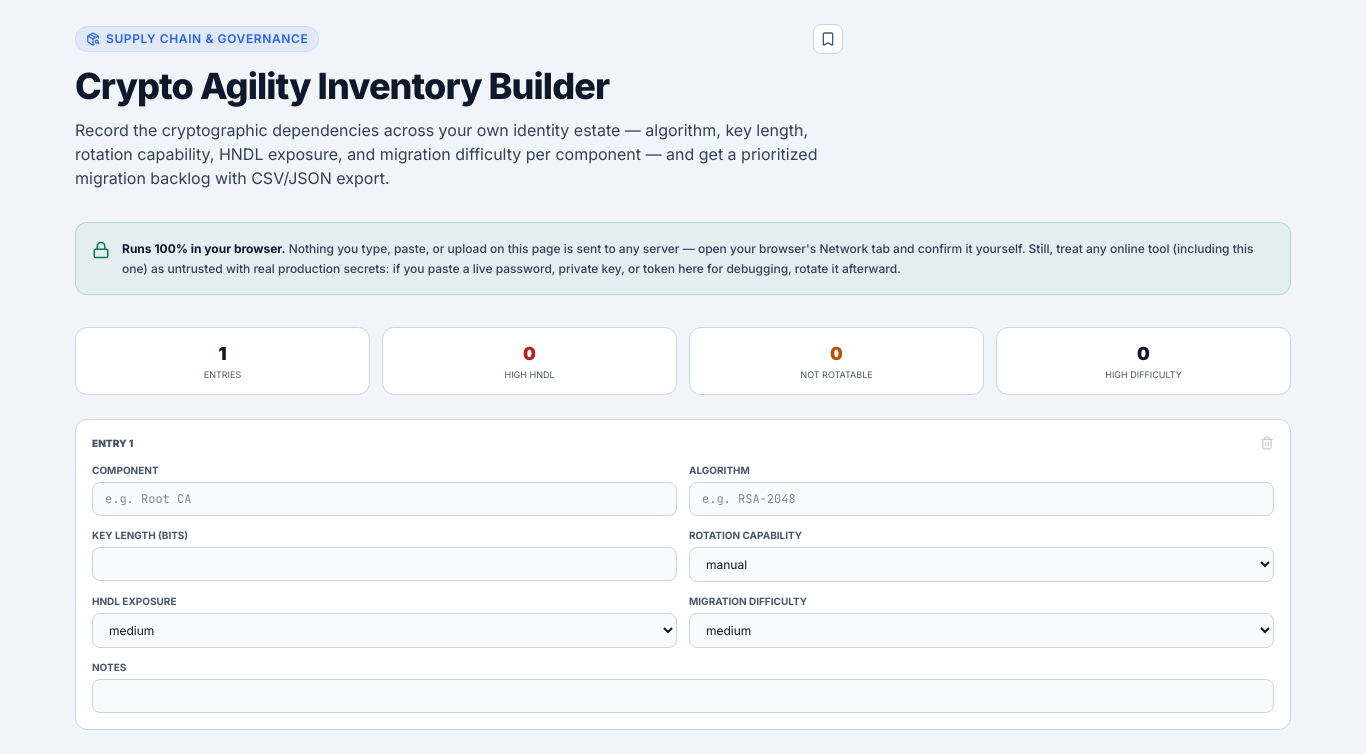
Test: CryptoAgilityInventoryBuilder tool page › updates the summary counts when HNDL exposure is set to high
Select "high" in the dropdown labelled "HNDL Exposure" at (384, 630), box top-left (92, 612), bottom-right (677, 648)
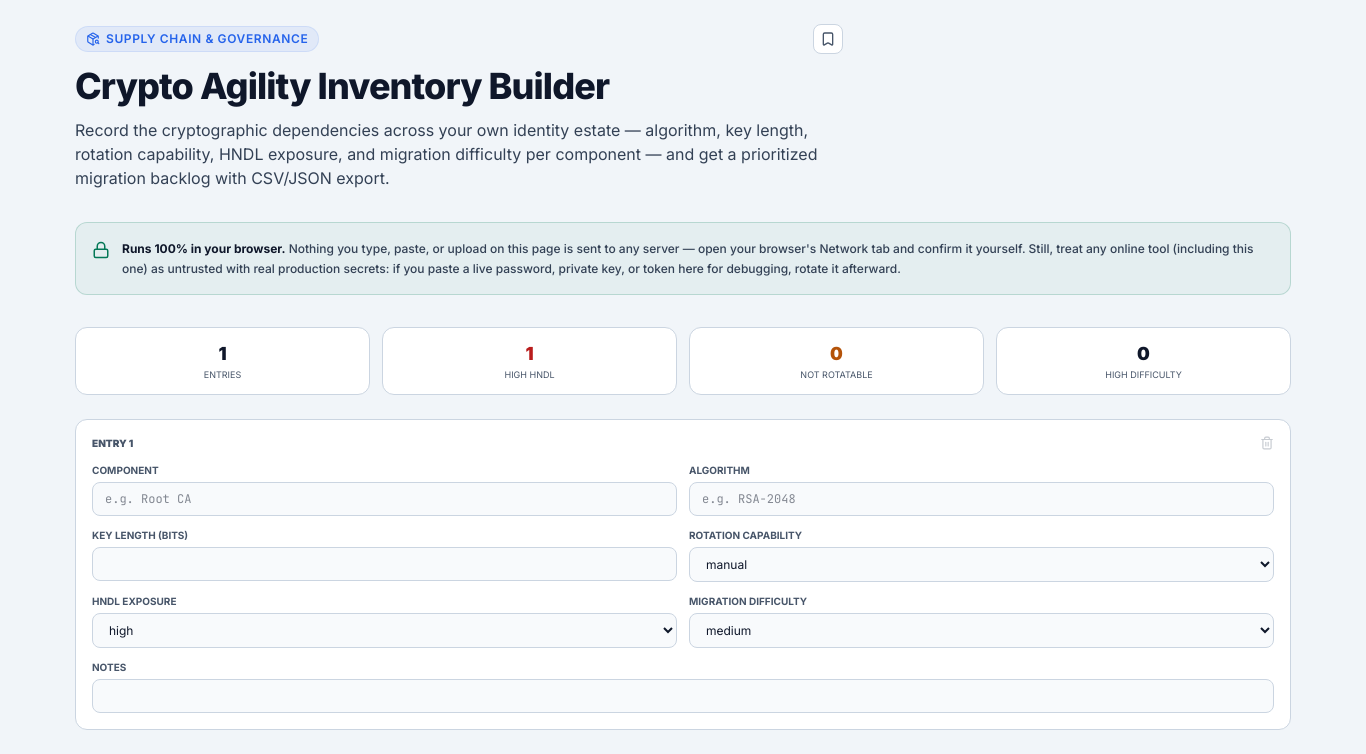
Expected: the 2nd text "1" is shown, top-left (525, 343), bottom-right (534, 364)
